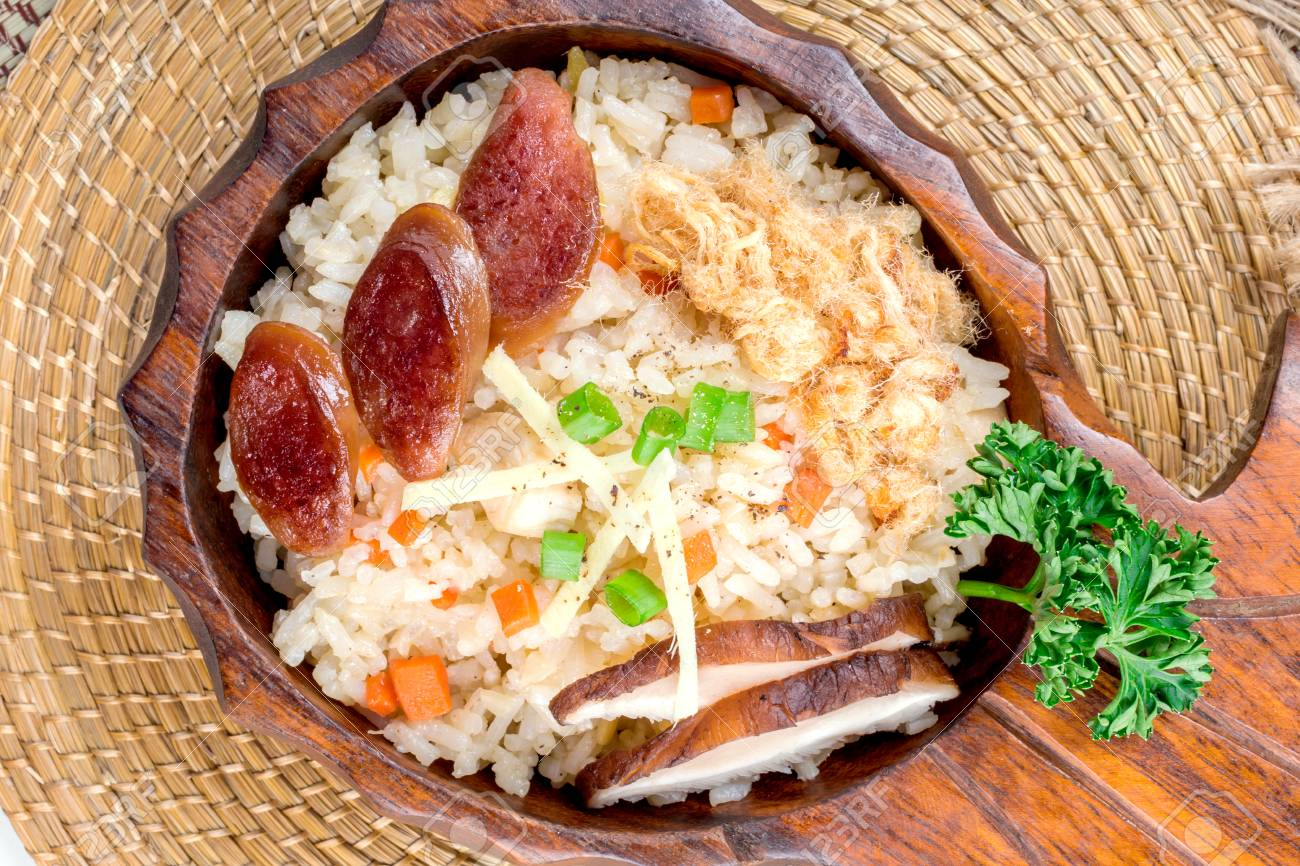chinese_sausage: (466, 118, 596, 341), (360, 250, 494, 451), (239, 337, 356, 522)
